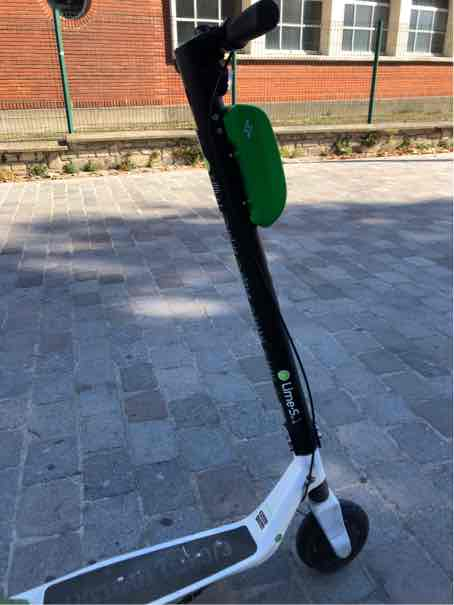scooter: (2, 1, 390, 604)
